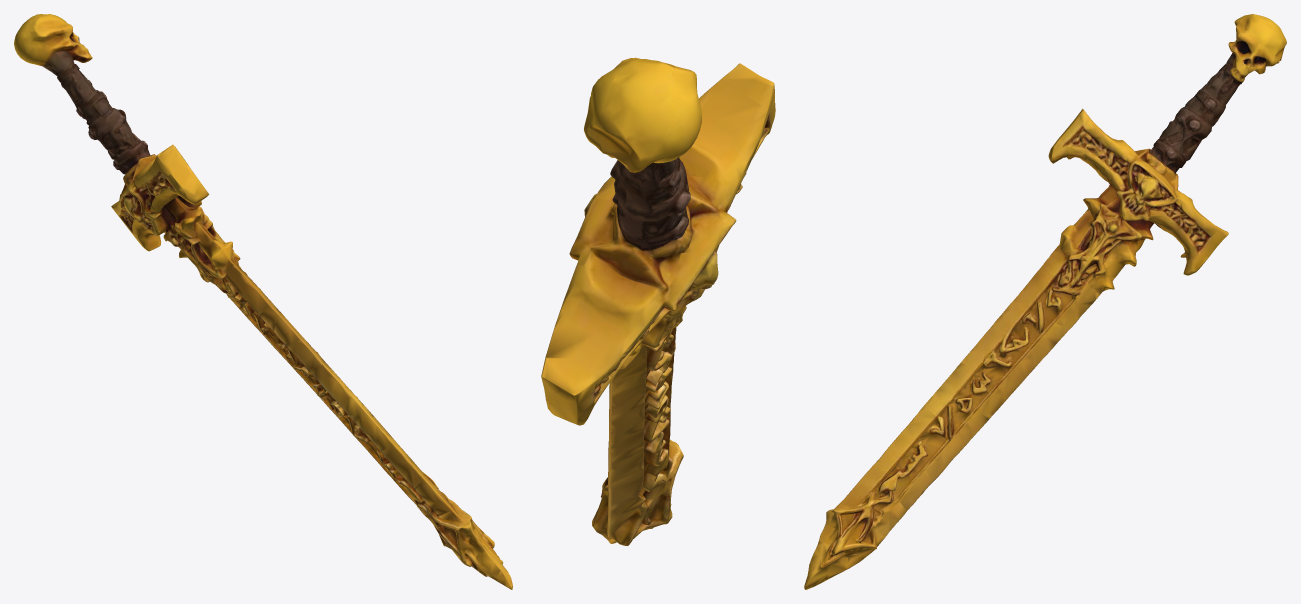
File: epee.glb
3 renders of one model, left to right at view 1: azimuth 30°, elevation 25°; view 2: azimuth 150°, elevation 25°; view 3: azimuth 270°, elevation 25°, orthographic. The views are drawn at different scales.
Visible parts, largest first — view 1: tripo_node_aa1ad938-88b0-467c-82f4-9d58a667e334; view 2: tripo_node_aa1ad938-88b0-467c-82f4-9d58a667e334; view 3: tripo_node_aa1ad938-88b0-467c-82f4-9d58a667e334.
Boxes of the visible parts, x1,y1,x2,y2 form: tripo_node_aa1ad938-88b0-467c-82f4-9d58a667e334: (14, 14, 512, 589); tripo_node_aa1ad938-88b0-467c-82f4-9d58a667e334: (541, 57, 775, 545); tripo_node_aa1ad938-88b0-467c-82f4-9d58a667e334: (804, 14, 1286, 589).
Bounding box in the file's own units: 0.5982 × 0.9998 × 0.9559.
Materials: 1 (1 with a texture image).
